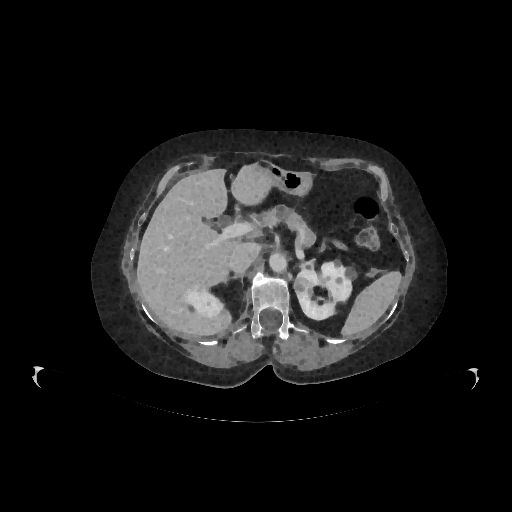Lesion: (294, 277, 308, 293)
